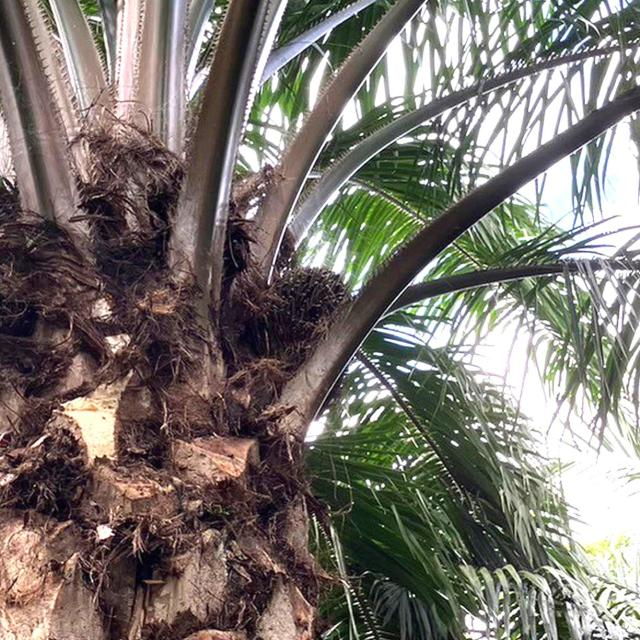unripe: (258, 260, 356, 360)
